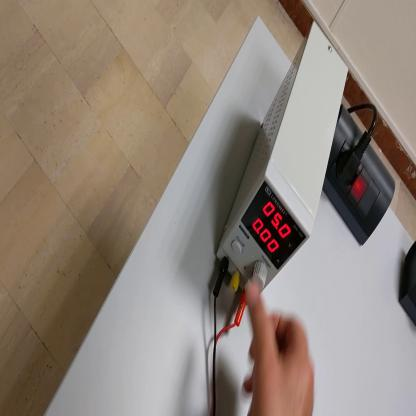hand: (245, 279, 316, 415)
power supply: (217, 20, 350, 292)
socket: (322, 108, 398, 249), (400, 241, 416, 339)
